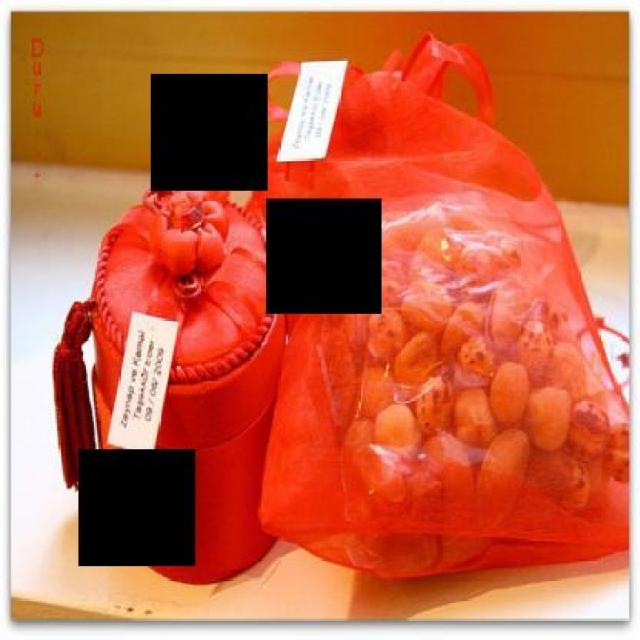plastic bag: (242, 29, 628, 580)
